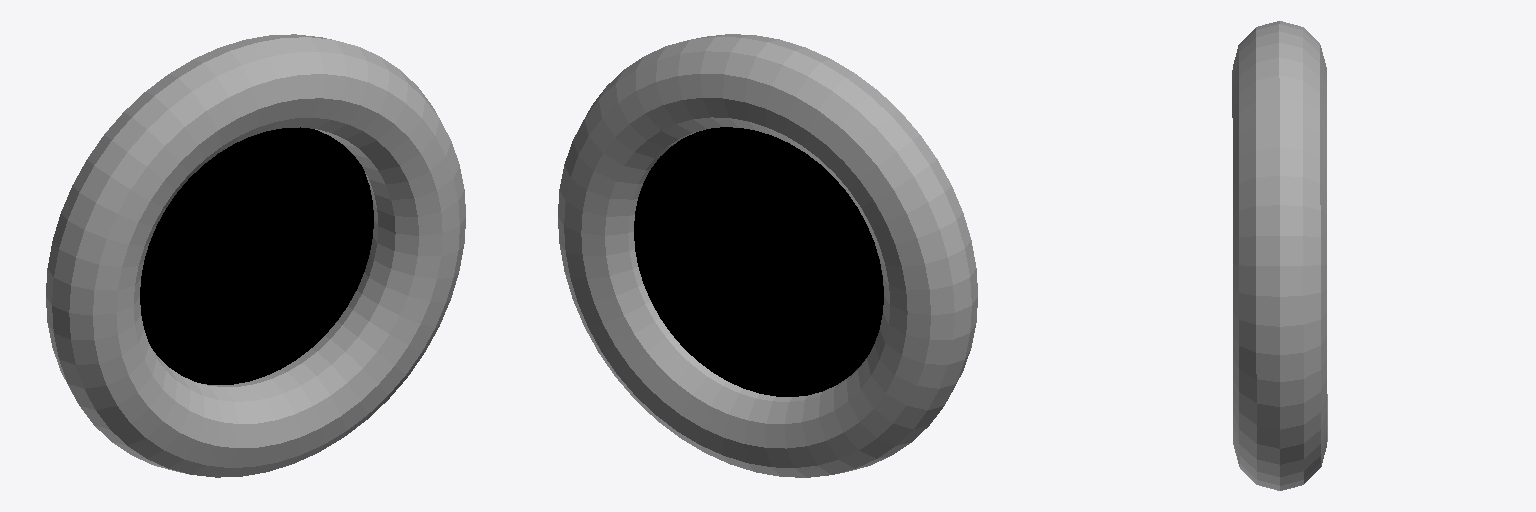
The picture shows the model from 3 angles: view 1: azimuth 30°, elevation 25°; view 2: azimuth 150°, elevation 25°; view 3: azimuth 270°, elevation 25°; orthographic projection.
Visible parts, largest first — view 1: トーラス; view 2: トーラス; view 3: トーラス.
Boxes of the visible parts, x1,y1,x2,y2 form: トーラス: [46, 34, 465, 477]; トーラス: [558, 34, 977, 477]; トーラス: [1232, 21, 1327, 490].
Bounding box in the file's own units: 1.66 × 1.66 × 0.3351.
1 materials, 1 textured.